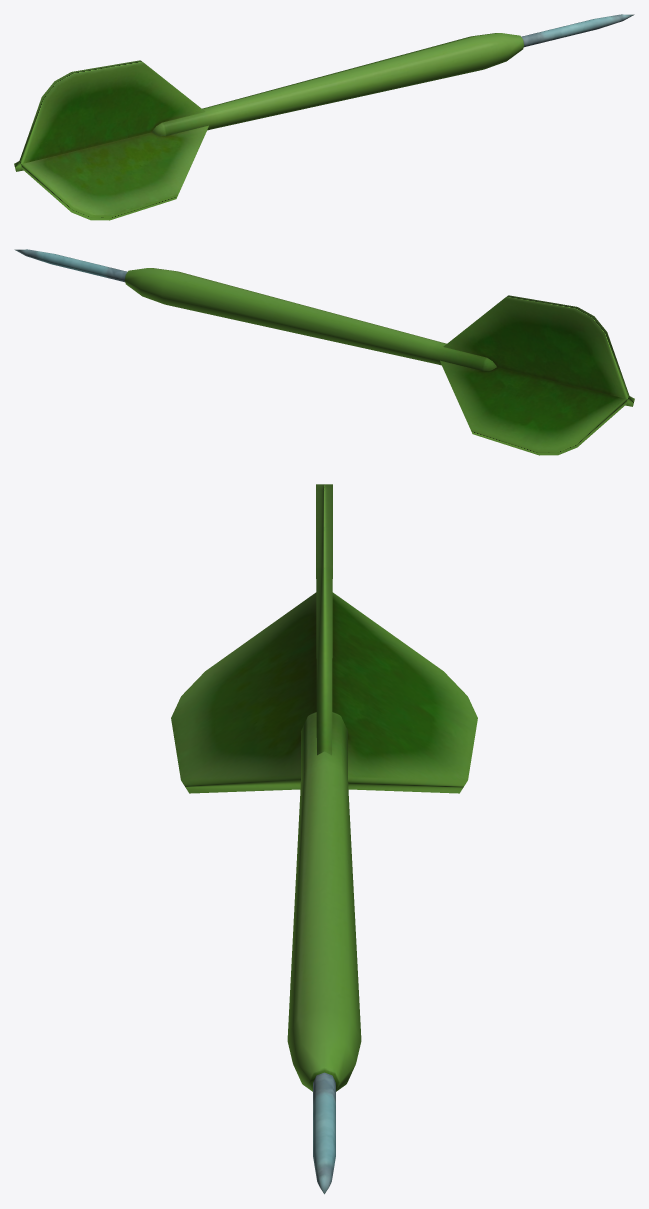
The model's file is green_dart.glb.
3 views of the same model, one above another, from view 1: azimuth 30°, elevation 25°; view 2: azimuth 150°, elevation 25°; view 3: azimuth 270°, elevation 25° (orthographic). The views are drawn at different scales.
Visible parts, largest first — view 1: Dart2_low_1; view 2: Dart2_low_1; view 3: Dart2_low_1.
Part boxes in pixels (left/top/right/bottom): Dart2_low_1: left=14, top=14, right=634, bottom=220; Dart2_low_1: left=14, top=249, right=634, bottom=455; Dart2_low_1: left=171, top=484, right=477, bottom=1194.
Size of the model in its own units: 197 by 36.89 by 42.6.
1 material, 1 textured.
